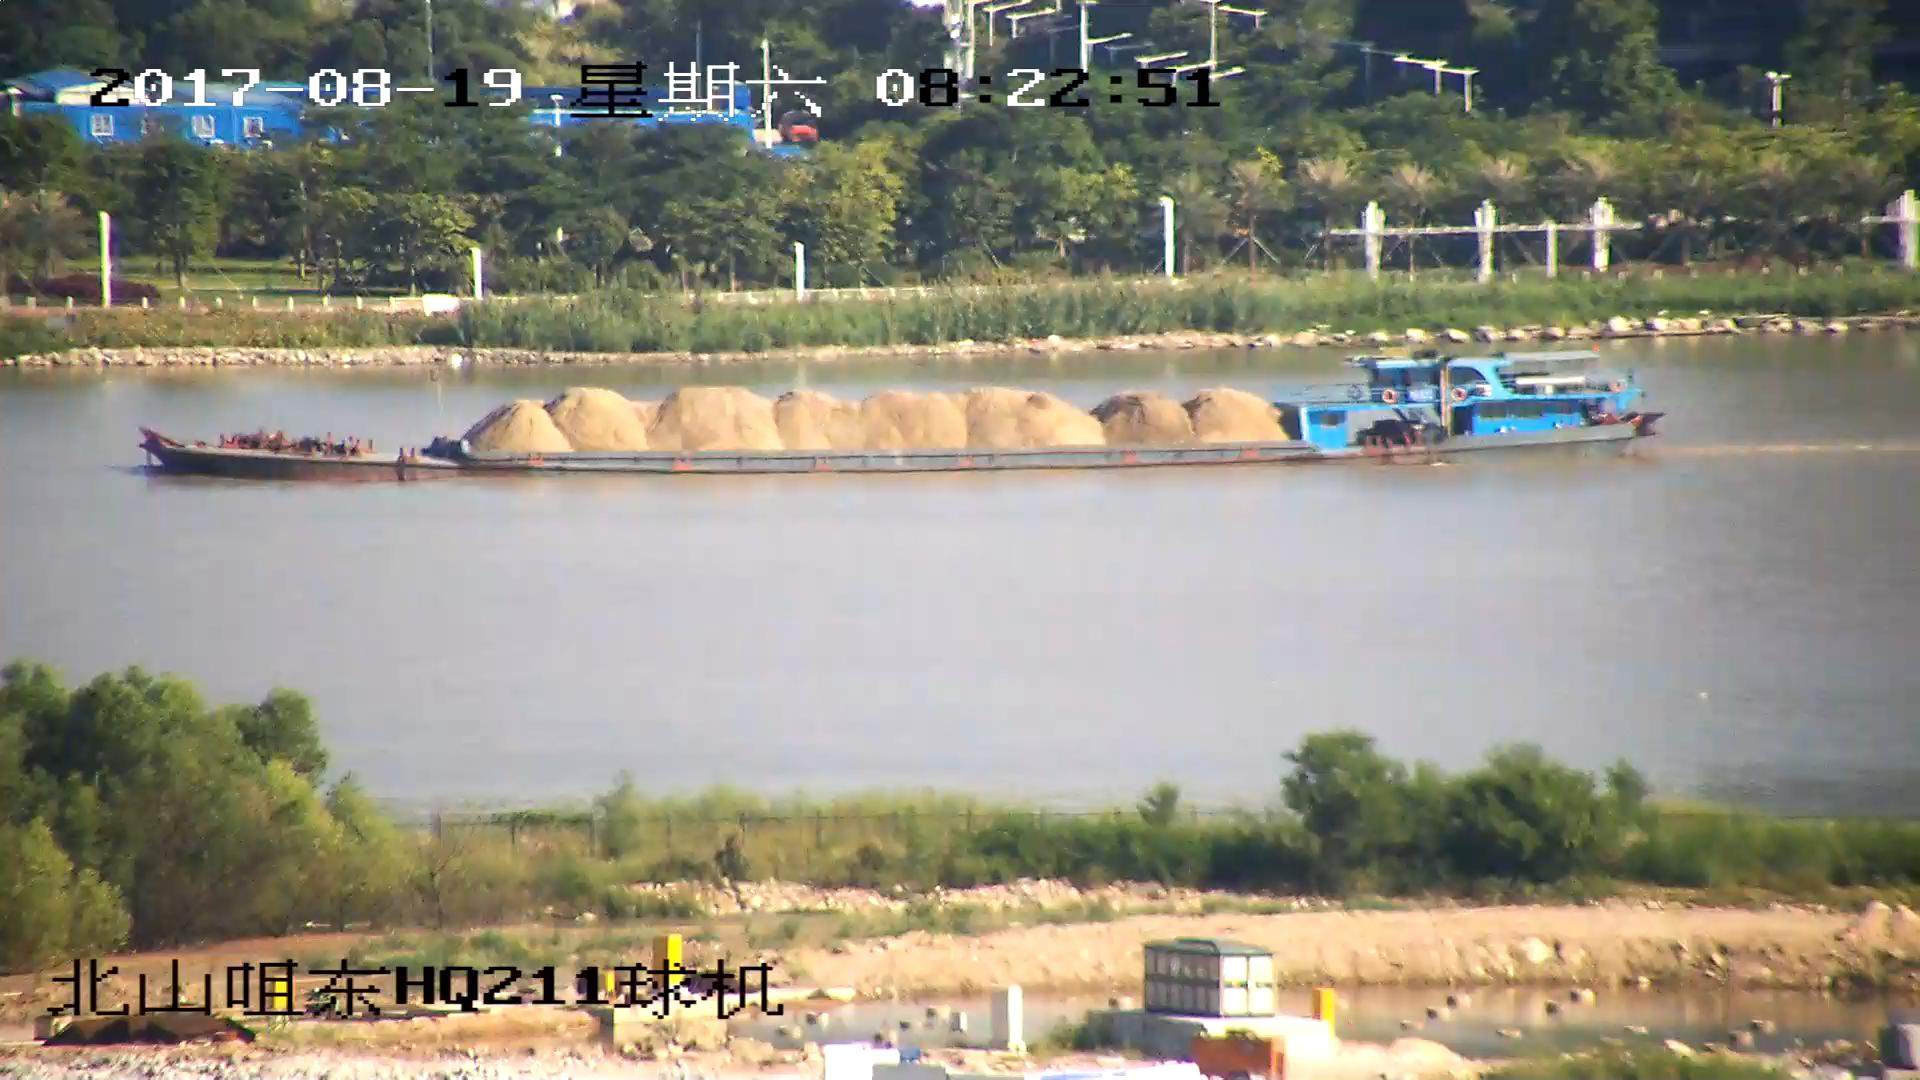ore carrier: (136, 345, 1666, 476)
